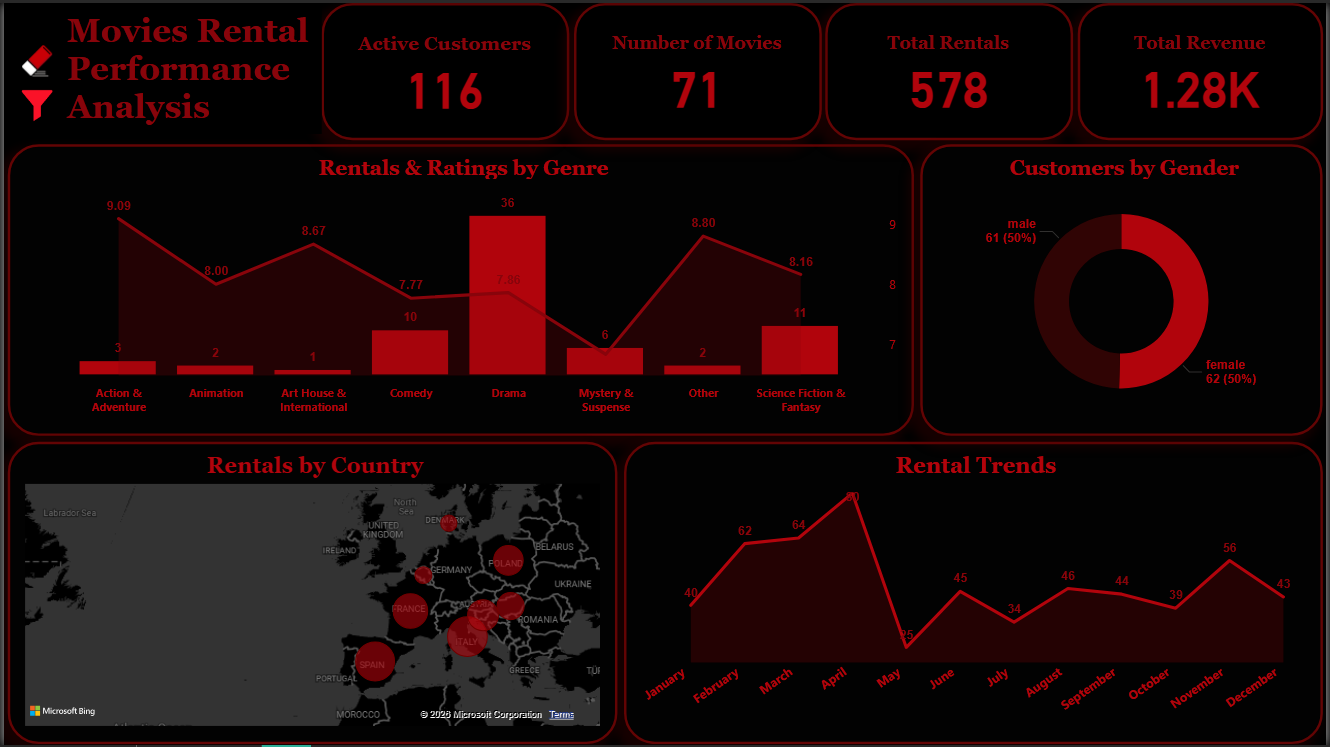

What the dashboard file says about the page in this screenshot:
{"tool":"powerbi","page":{"name":"Dashboard","canvas":[1280,720],"ordinal":0},"visuals":[{"type":"lineClusteredColumnComboChart","title":"Rentals & Ratings by Genre","fields":{"Category":["movies.genre"],"Y":["CountNonNull(movies.movie_id)"],"Y2":["Avg(renting.rating)"]},"box":[3.6,136.8,877.6,282],"z":0},{"type":"lineChart","title":"Rental Trends","fields":{"Category":["Calendar.Date.Variation.Date Hierarchy.Year","Calendar.Date.Variation.Date Hierarchy.Month","Calendar.Date.Variation.Date Hierarchy.Day"],"Y":["CountNonNull(renting.renting_id)"]},"box":[600.4,424.9,676.7,292.9],"z":1000},{"type":"cardVisual","fields":{"Data":["renting.Total Revenue"]},"box":[1039.8,0,237.3,133.2],"z":2000},{"type":"cardVisual","fields":{"Data":["renting.Total Rentals"]},"box":[795.3,0,239.7,133.2],"z":3000},{"type":"cardVisual","fields":{"Data":["renting.Active Customers"]},"box":[307.5,0,239.7,133.2],"z":4000},{"type":"cardVisual","fields":{"Data":["CountNonNull(movies.movie_id)"]},"box":[552,0,239.7,133.2],"z":5000},{"type":"donutChart","title":"Customers by Gender","fields":{"Category":["customers.gender"],"Y":["CountNonNull(customers.customer_id)"]},"box":[887.3,137.4,389.8,282],"z":6000},{"type":"map","title":"Rentals by Country","fields":{"Size":["CountNonNull(renting.renting_id)"],"Category":["customers.country"]},"box":[3.6,424.9,590.7,292.9],"z":7000},{"type":"image","box":[8.7,75.7,47.2,47.2],"z":9000},{"type":"image","box":[3.6,35.1,56.9,41.2],"z":11000},{"type":"textbox","box":[55.7,3.6,251.8,129.5],"z":12000}]}

Visuals, with their boxes in screenshot pixels (x1, y1, x2, y2), scaled from the page's 1280x720 canvas onto the 1330x747 screenshot:
"Rentals & Ratings by Genre" lineClusteredColumnComboChart: bbox=[4, 142, 916, 435]
"Rental Trends" lineChart: bbox=[624, 441, 1327, 745]
cardVisual - renting.Total Revenue: bbox=[1080, 0, 1327, 138]
cardVisual - renting.Total Rentals: bbox=[826, 0, 1075, 138]
cardVisual - renting.Active Customers: bbox=[320, 0, 569, 138]
cardVisual - CountNonNull(movies.movie_id): bbox=[574, 0, 823, 138]
"Customers by Gender" donutChart: bbox=[922, 143, 1327, 435]
"Rentals by Country" map: bbox=[4, 441, 618, 745]
image: bbox=[9, 79, 58, 128]
image: bbox=[4, 36, 63, 79]
textbox: bbox=[58, 4, 320, 138]
